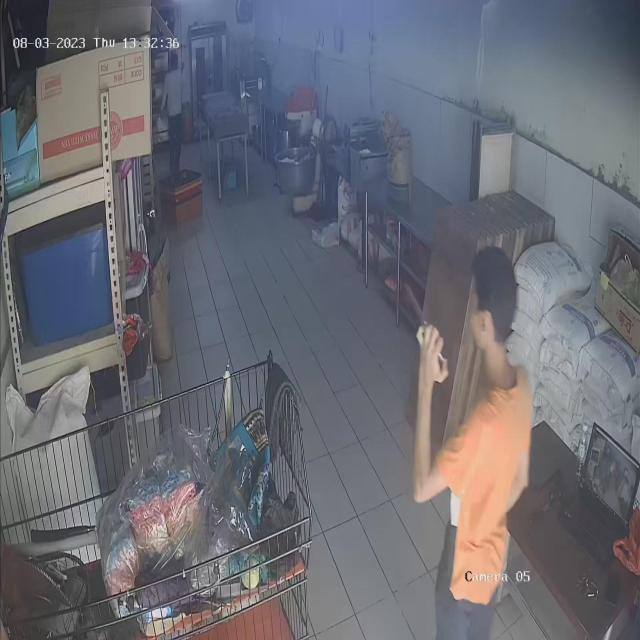Knife: (398, 265, 444, 364)
